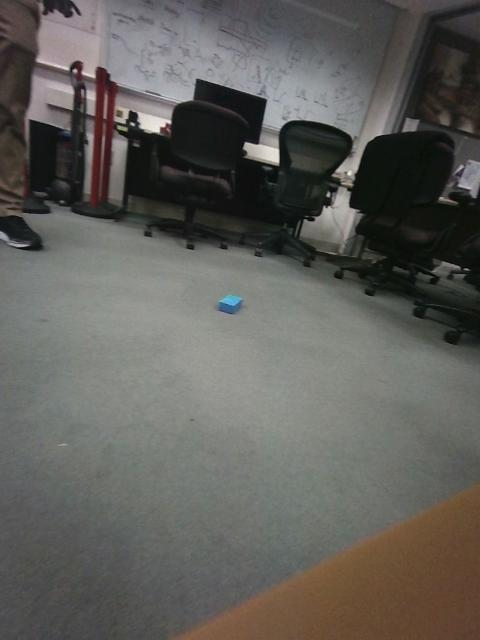block: (42, 401, 138, 461)
